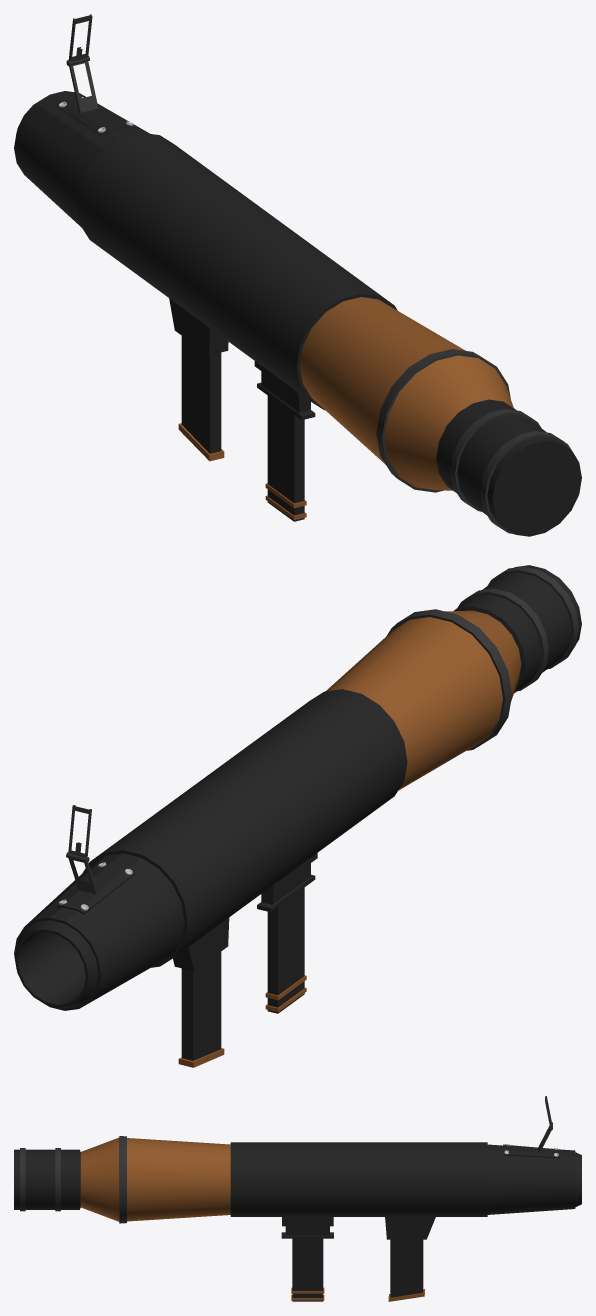
Rendered from RocketLauncher.FBX.
The picture shows the model from 3 angles, top to bottom: view 1: azimuth 30°, elevation 25°; view 2: azimuth 150°, elevation 25°; view 3: azimuth 270°, elevation 25°; orthographic projection. The views are drawn at different scales.
Parts seen in each view (by area): view 1: Cylinder001; view 2: Cylinder001; view 3: Cylinder001.
Part boxes in pixels (<box>): Cylinder001: <box>14,91,581,536</box>; Cylinder001: <box>14,565,581,1067</box>; Cylinder001: <box>14,1136,581,1301</box>.
Size of the model in its own units: 13.32 by 33.69 by 86.
